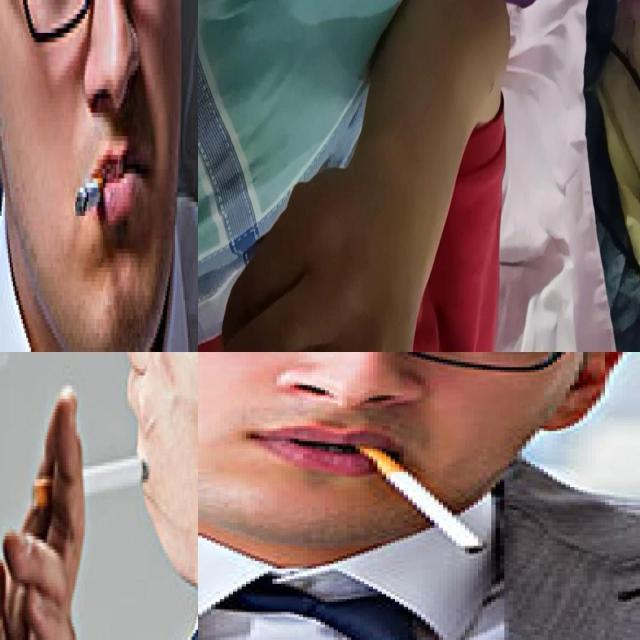smoking: (351, 438, 496, 550), (33, 456, 149, 509), (75, 176, 104, 217)
